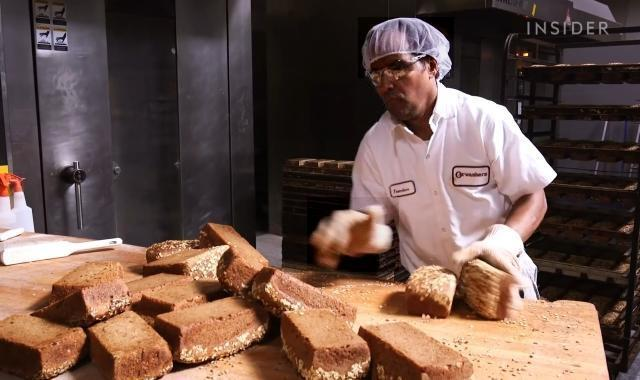apron: (452, 214, 544, 298), (307, 198, 399, 273)
gloves: (358, 17, 454, 78)
no_hairnet: (364, 71, 442, 124)
